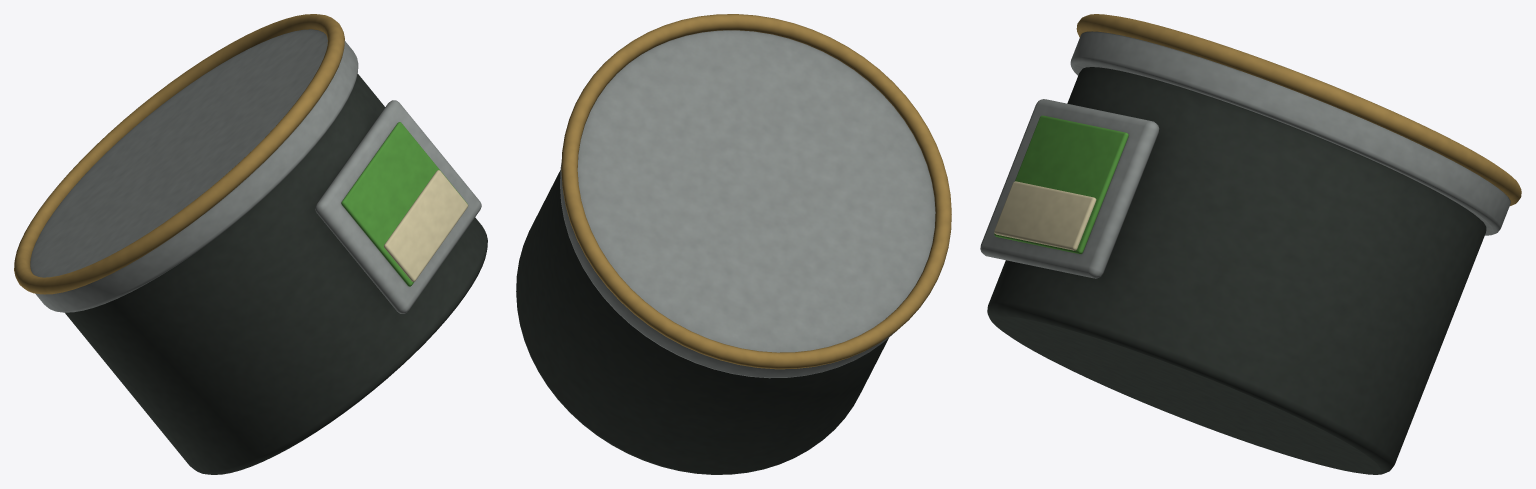
3 renders of one model, left to right at view 1: azimuth 30°, elevation 25°; view 2: azimuth 150°, elevation 25°; view 3: azimuth 270°, elevation 25°, orthographic. The views are drawn at different scales.
Visible parts, largest first — view 1: Closed sample vessel; view 2: Closed sample vessel; view 3: Closed sample vessel.
Part boxes in pixels (x1,y1,x2,y2): Closed sample vessel: (14, 14, 487, 474); Closed sample vessel: (516, 14, 951, 474); Closed sample vessel: (980, 14, 1521, 474).
Size of the model in its own units: 1.1 by 1.05 by 1.09.
Materials: 1 (1 with a texture image).
